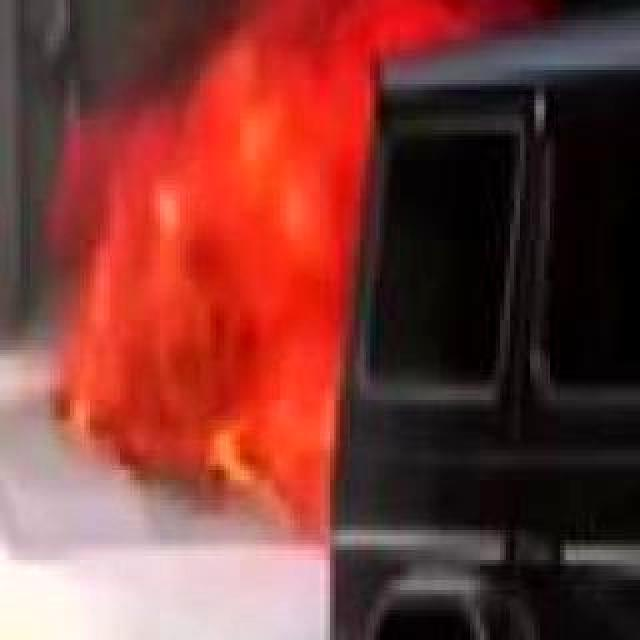fire: (96, 0, 482, 486)
